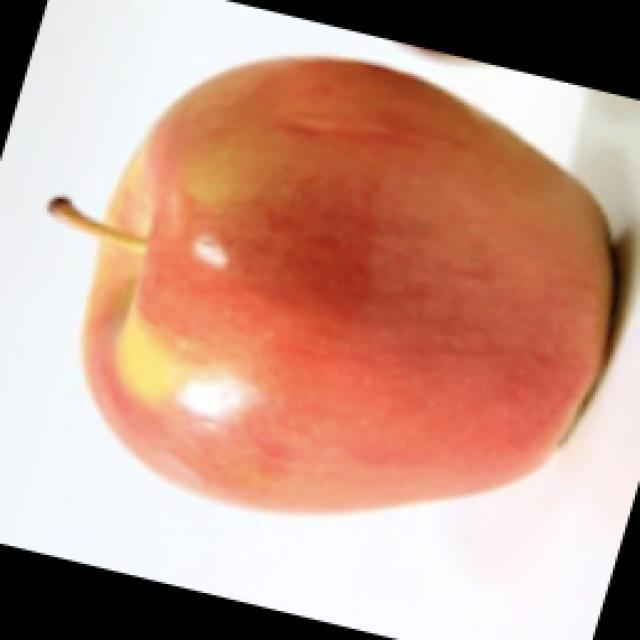Fresh Apple: (100, 60, 608, 525)
